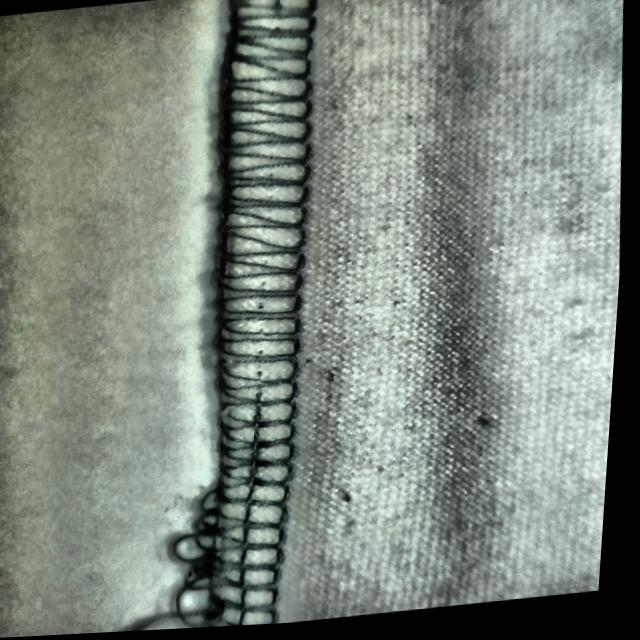Stitch: (127, 481, 310, 633)
